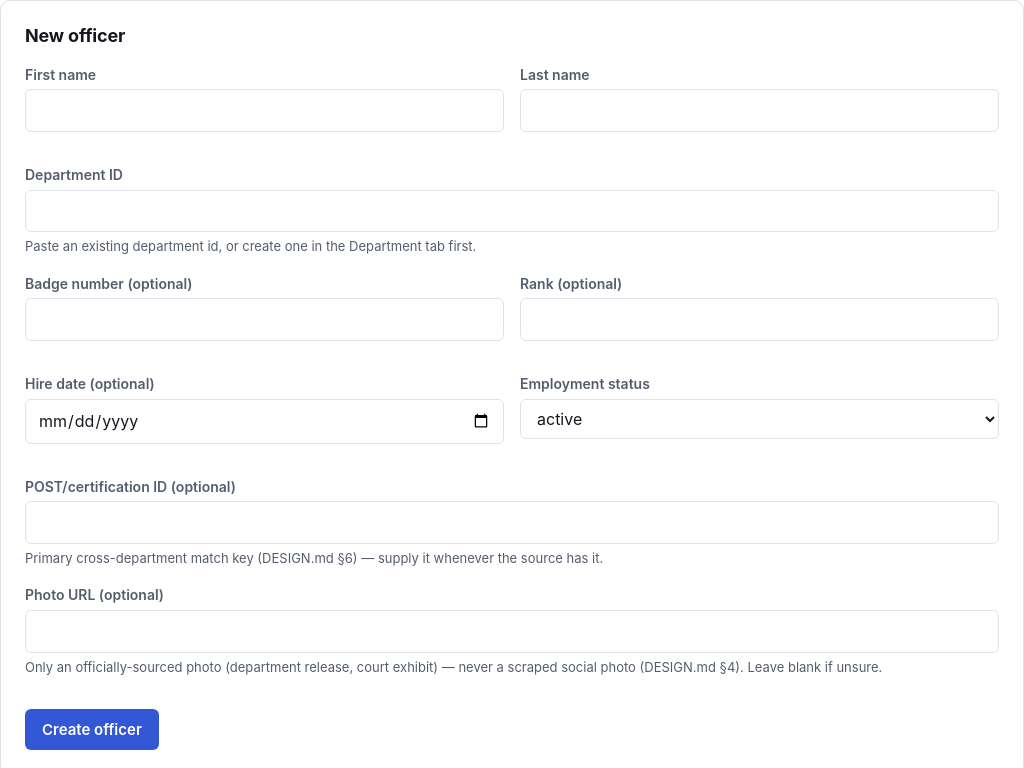
NewOfficerForm › blocks submission and shows an error when required fields are missing
Click the button "Create officer" at (92, 729), box [25,709,159,750]
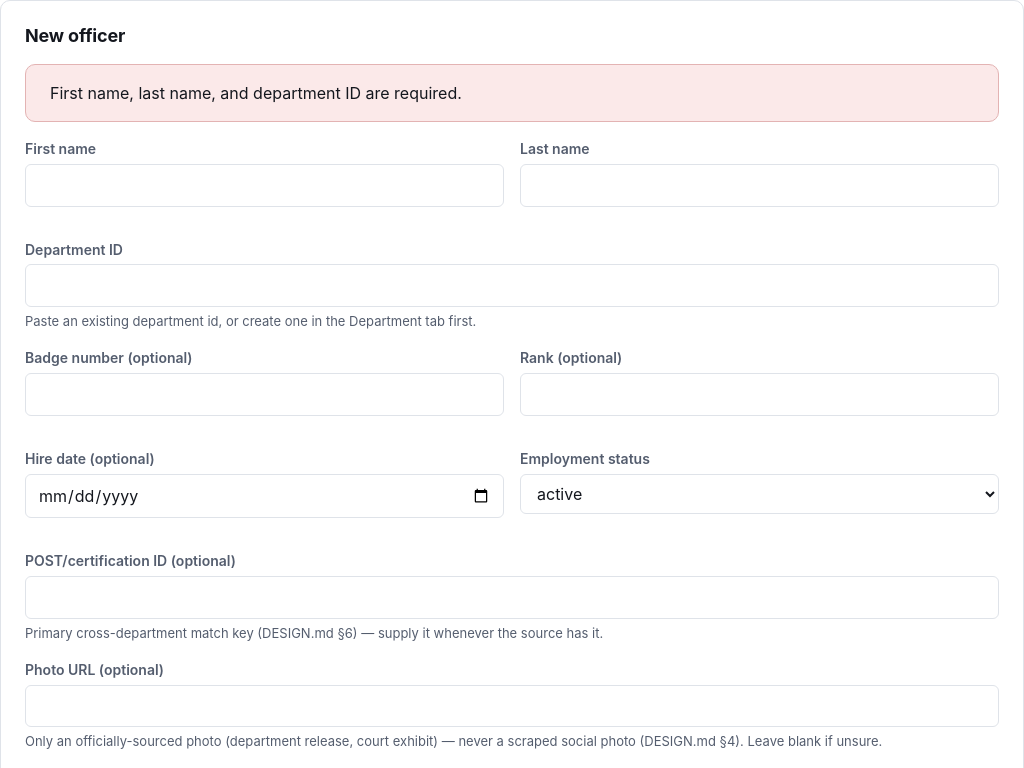
Check: the text "First name, last name, and department ID are required." is shown, box [25,64,999,122]
